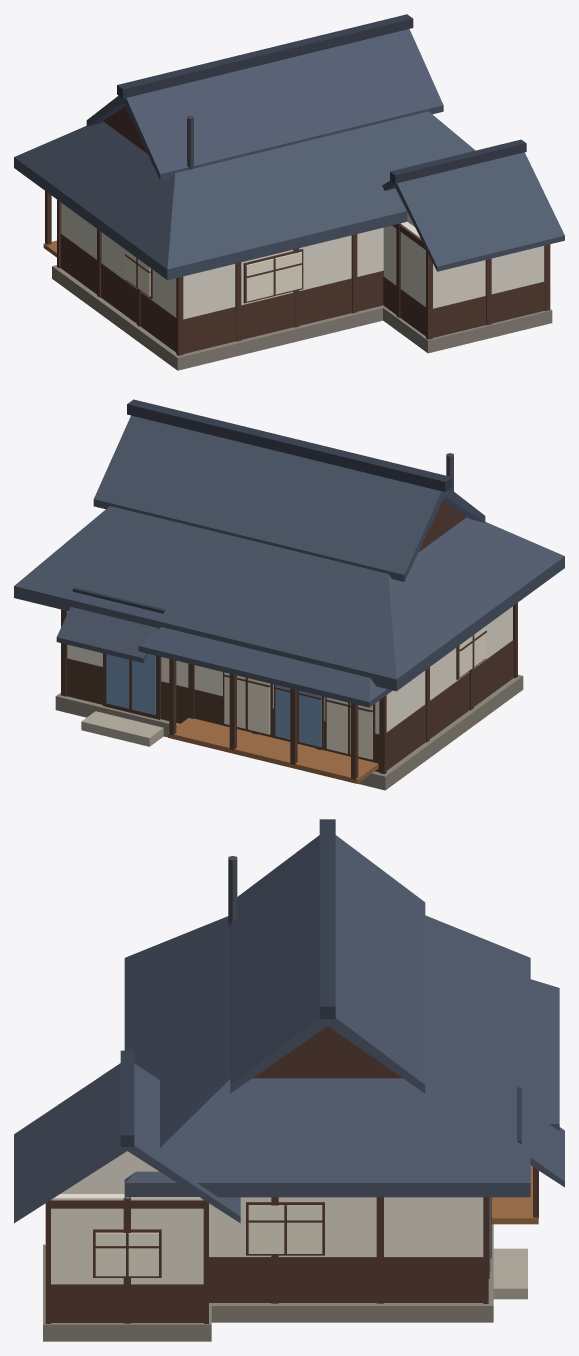
The model's file is farmhouse_a.glb.
The picture shows the model from 3 angles, top to bottom: view 1: azimuth 30°, elevation 25°; view 2: azimuth 150°, elevation 25°; view 3: azimuth 270°, elevation 25°; orthographic projection. The views are drawn at different scales.
Parts seen in each view (by area): view 1: farmhouse_a; view 2: farmhouse_a; view 3: farmhouse_a.
Boxes of the visible parts, x1,y1,x2,y2 form: farmhouse_a: [14, 14, 564, 370]; farmhouse_a: [14, 399, 564, 790]; farmhouse_a: [14, 819, 564, 1341].
Size of the model in its own units: 10.35 by 6.54 by 10.45.
